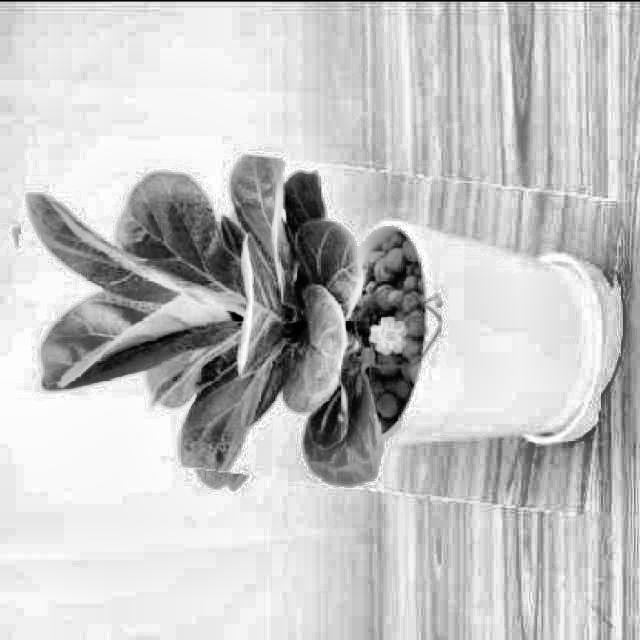plants: (2, 144, 615, 496)
